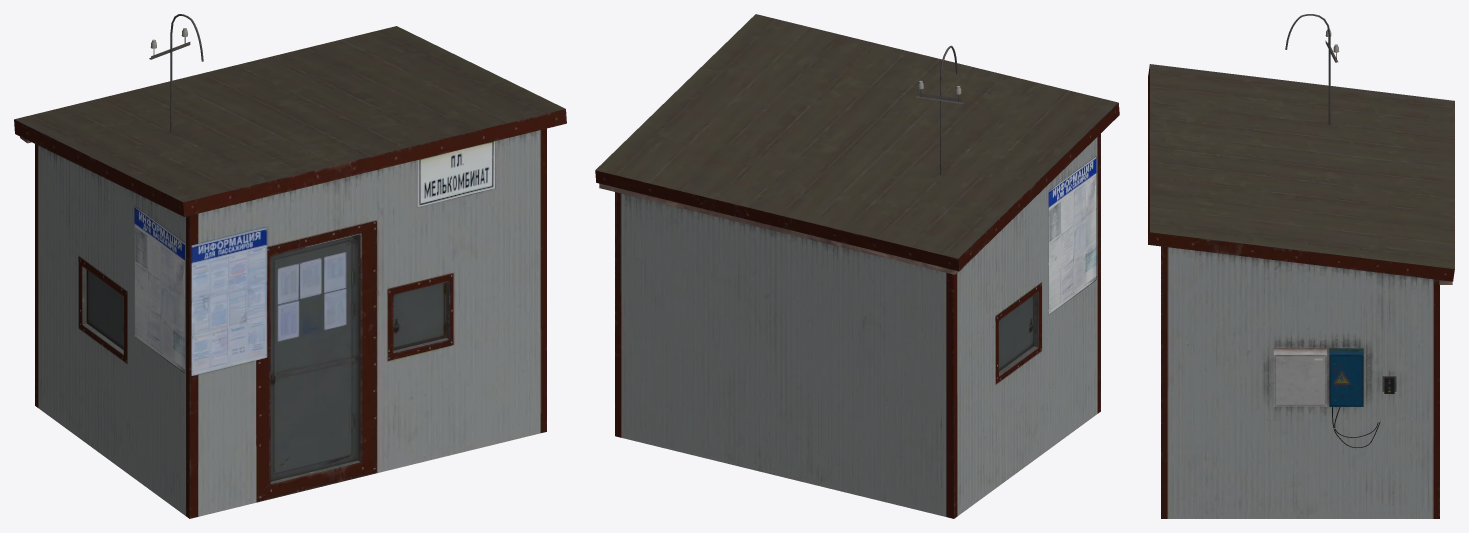
3 views of the same model, side by side, from view 1: azimuth 30°, elevation 25°; view 2: azimuth 150°, elevation 25°; view 3: azimuth 270°, elevation 25° (orthographic). The views are drawn at different scales.
Visible parts, largest first — view 1: booth_low001; view 2: booth_low001; view 3: booth_low001.
Boxes of the visible parts, box(x1,y1,x2,y2) form: booth_low001: box(14, 14, 566, 518); booth_low001: box(595, 14, 1119, 518); booth_low001: box(1148, 14, 1454, 518).
Bounding box in the file's own units: 4.3 × 4.54 × 3.3.
Materials: 1 (1 with a texture image).
